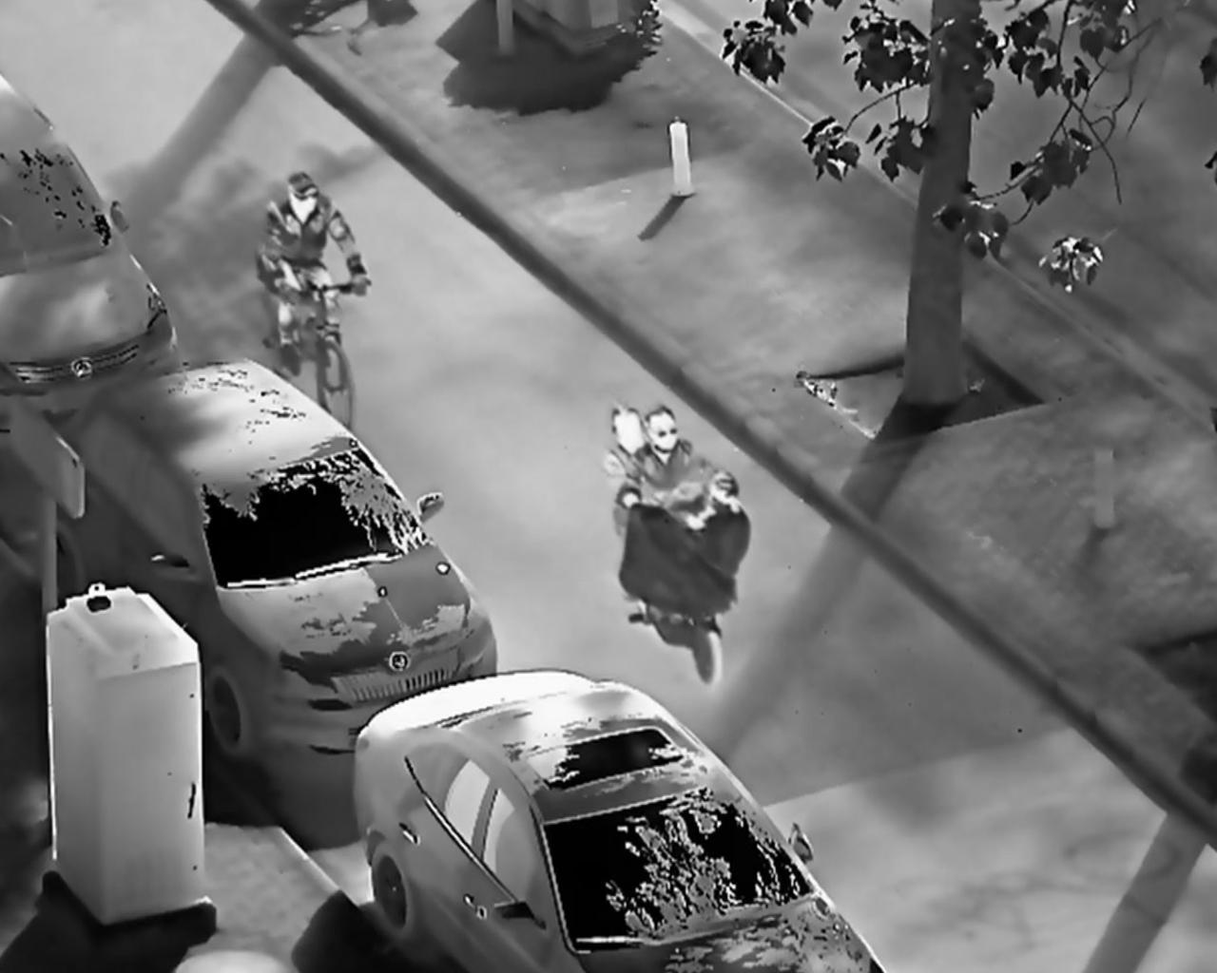person: (254, 170, 373, 384), (619, 399, 753, 578), (600, 395, 650, 491)
